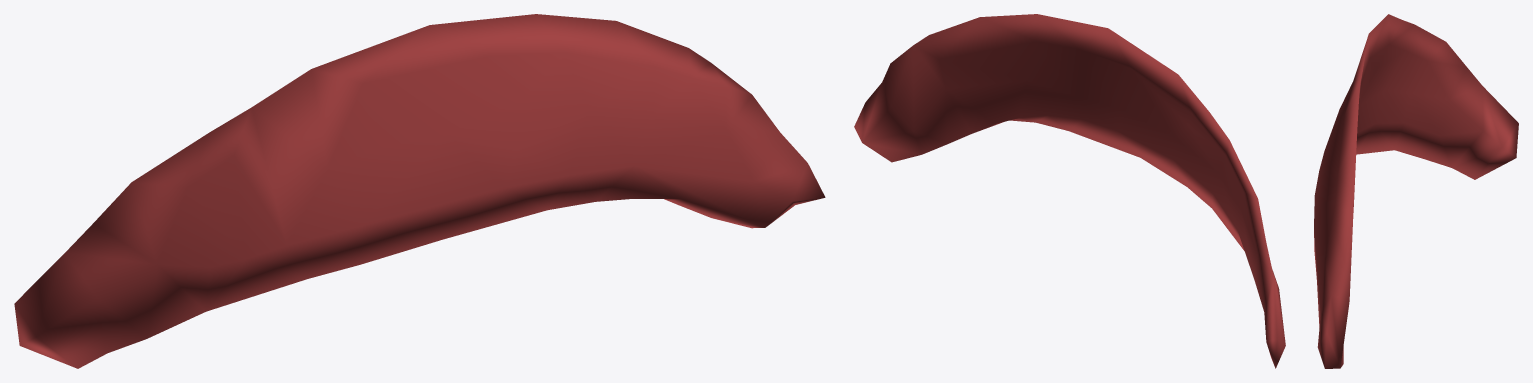
The model's file is superior-tarsus-r.glb.
3 views of the same model, side by side, from view 1: azimuth 30°, elevation 25°; view 2: azimuth 150°, elevation 25°; view 3: azimuth 270°, elevation 25° (orthographic). The views are drawn at different scales.
Visible parts, largest first — view 1: Superior tarsus.r; view 2: Superior tarsus.r; view 3: Superior tarsus.r.
Boxes of the visible parts, x1=… form: Superior tarsus.r: x1=14, y1=14, x2=825, y2=368; Superior tarsus.r: x1=854, y1=14, x2=1285, y2=368; Superior tarsus.r: x1=1314, y1=14, x2=1518, y2=368.
Size of the model in its own units: 0.0255 by 0.0114 by 0.00828.
